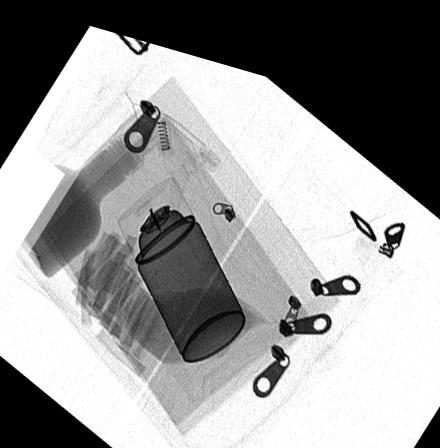Sprayer: (117, 168, 246, 353)
